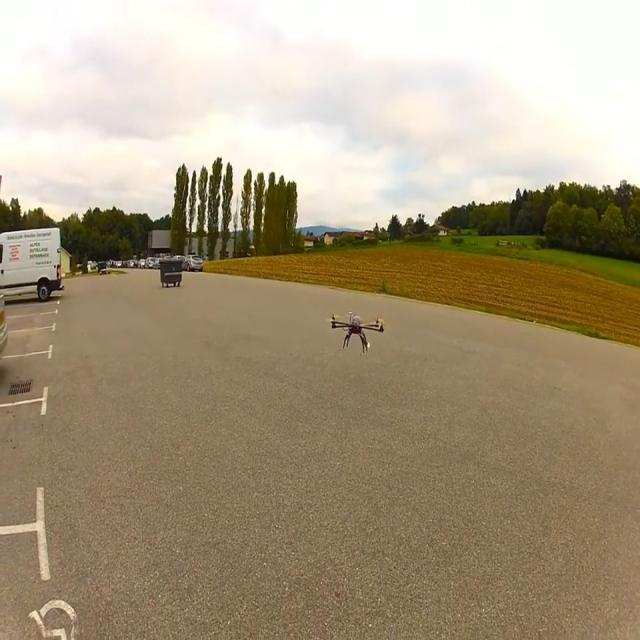drone: (328, 310, 384, 355)
